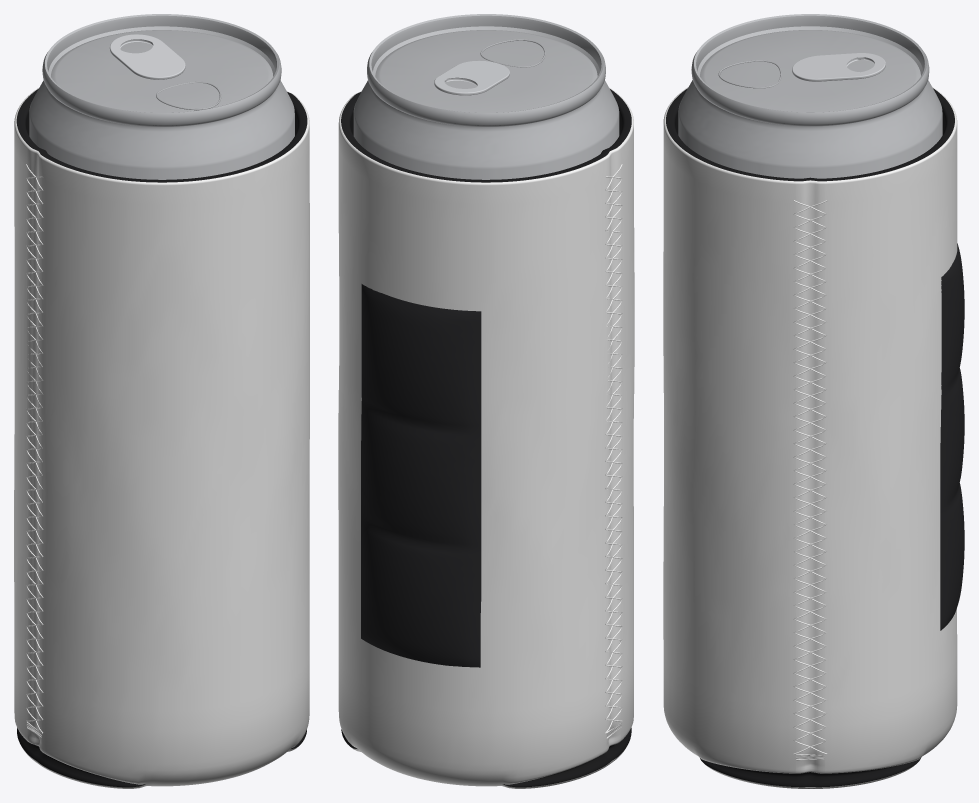
File: can-cooler-slim.glb
3 renders of one model, left to right at view 1: azimuth 30°, elevation 25°; view 2: azimuth 150°, elevation 25°; view 3: azimuth 270°, elevation 25°, orthographic.
Parts seen in each view (by area): view 1: sleeve, can, can_lid, thread, can_tab; view 2: sleeve, magnet, can, can_lid, thread, can_tab; view 3: sleeve, can, can_lid, magnet, thread, can_tab.
Part boxes in pixels (x1=…): sleeve: x1=14, y1=87, x2=309, y2=788; can: x1=29, y1=14, x2=294, y2=179; can_lid: x1=51, y1=30, x2=272, y2=112; thread: x1=26, y1=164, x2=43, y2=737; can_tab: x1=109, y1=34, x2=185, y2=79; sleeve: x1=338, y1=88, x2=634, y2=788; magnet: x1=361, y1=284, x2=481, y2=667; can: x1=353, y1=14, x2=619, y2=179; can_lid: x1=375, y1=30, x2=597, y2=112; thread: x1=605, y1=164, x2=622, y2=738; can_tab: x1=434, y1=60, x2=509, y2=95; sleeve: x1=663, y1=87, x2=957, y2=788; can: x1=678, y1=14, x2=942, y2=178; can_lid: x1=700, y1=30, x2=920, y2=112; magnet: x1=940, y1=243, x2=964, y2=630; thread: x1=793, y1=200, x2=827, y2=760; can_tab: x1=792, y1=53, x2=885, y2=81.
Size of the model in its own units: 0.0641 by 0.1598 by 0.0655.
Materials: 8 (2 with a texture image).
